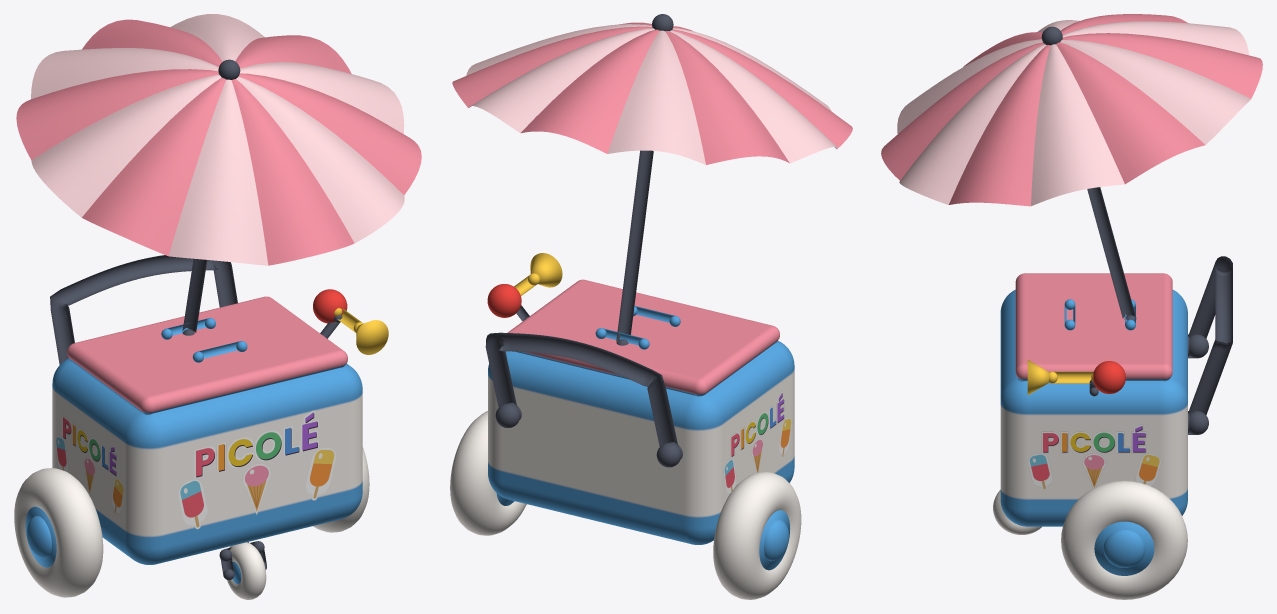
File: carrinho_picole.glb
3 renders of one model, left to right at view 1: azimuth 30°, elevation 25°; view 2: azimuth 150°, elevation 25°; view 3: azimuth 270°, elevation 25°, orthographic. The views are drawn at different scales.
Parts seen in each view (by area): view 1: carrinho, guarda_sol; view 2: carrinho, guarda_sol; view 3: carrinho, guarda_sol.
Part boxes in pixels (x1,y1,x2,y2): carrinho: (14, 59, 388, 599); guarda_sol: (16, 14, 421, 265); carrinho: (450, 14, 801, 599); guarda_sol: (452, 22, 852, 164); carrinho: (993, 26, 1232, 599); guarda_sol: (881, 14, 1262, 206).
Bounding box in the file's own units: 1.3 × 1.85 × 1.26.
Materials: 9 (1 with a texture image).
